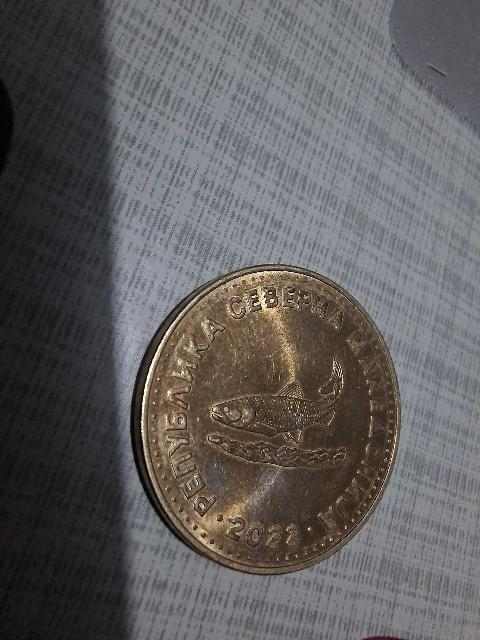2_coin: (133, 266, 399, 573)
